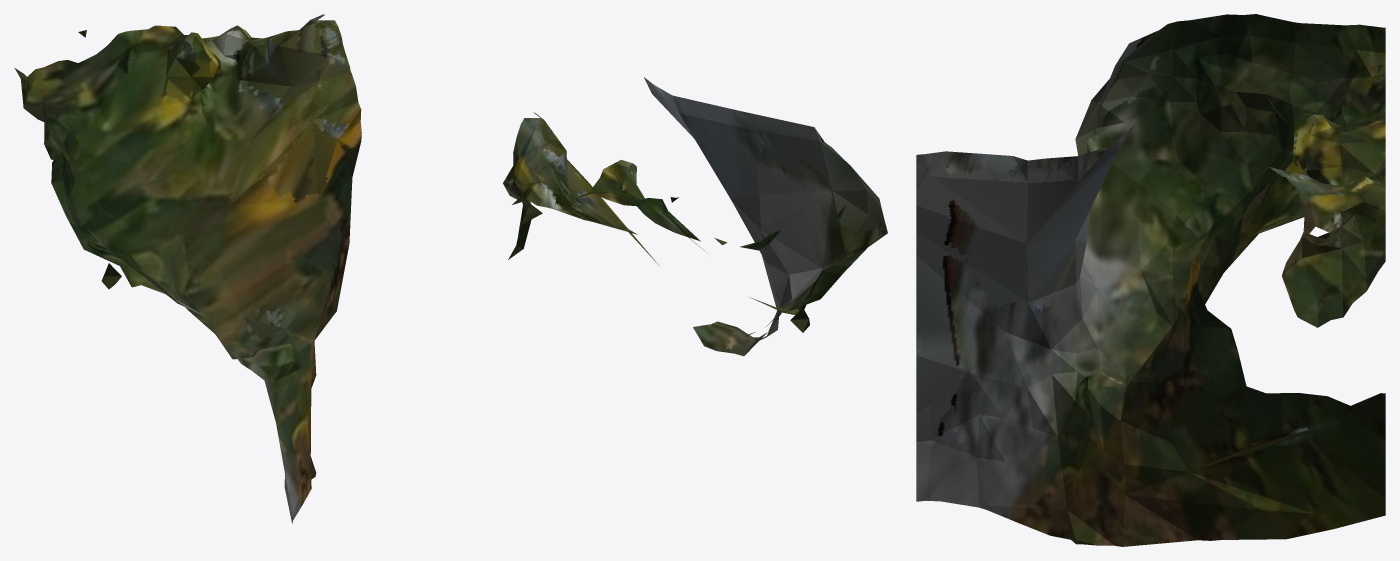
The picture shows the model from 3 angles, left to right: view 1: azimuth 30°, elevation 25°; view 2: azimuth 150°, elevation 25°; view 3: azimuth 270°, elevation 25°; orthographic projection. The views are drawn at different scales.
Size of the model in its own units: 0.721 by 0.8373 by 0.8374.
5 materials, 5 textured.
